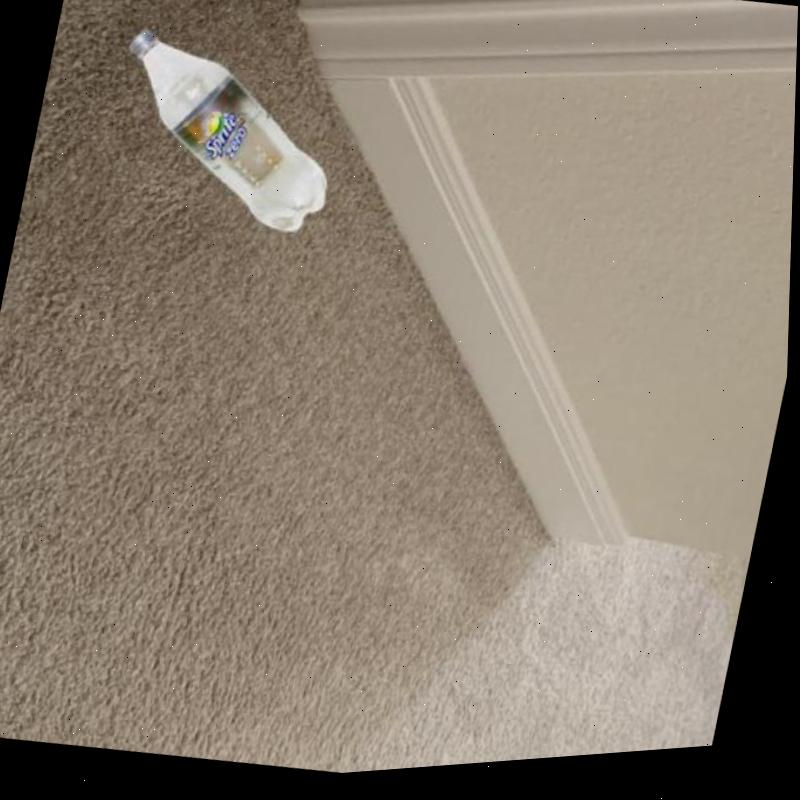botella: (94, 10, 358, 257)
